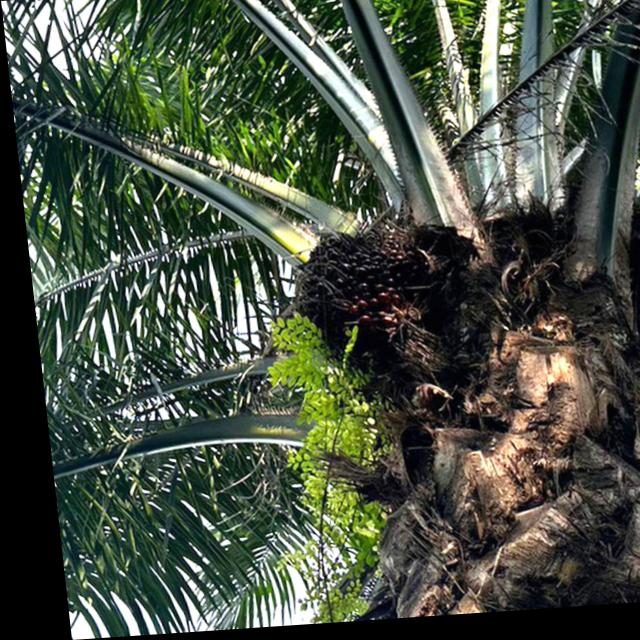unripe: (280, 220, 430, 361)
